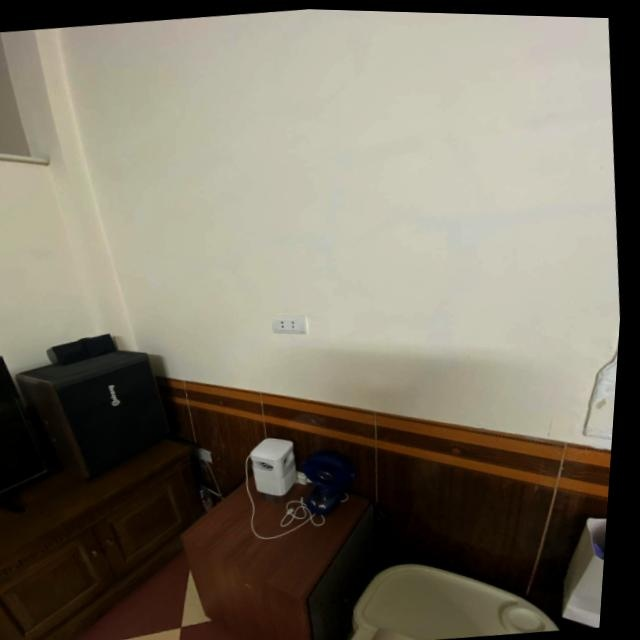outlet: (269, 312, 308, 337)
